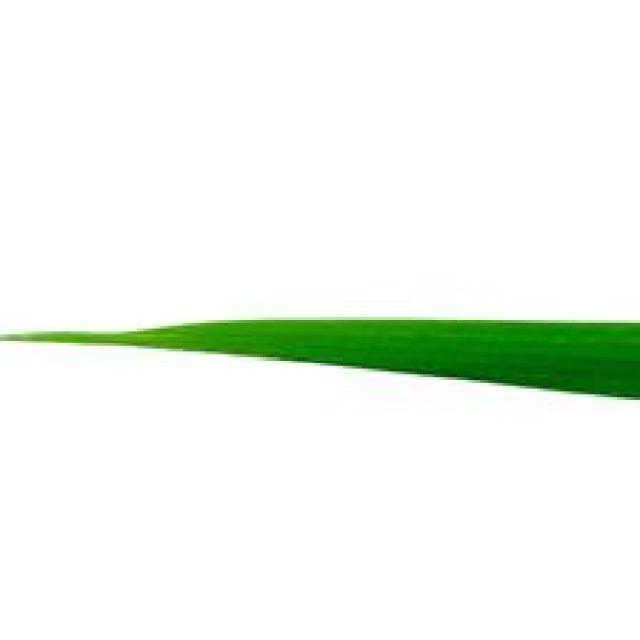Rice___Healthy_Rice_Plant: (0, 319, 637, 402)
